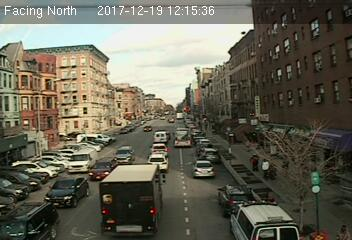car: (42, 176, 90, 207), (217, 183, 253, 212), (91, 159, 115, 179), (144, 154, 170, 172), (112, 146, 135, 164), (190, 161, 215, 177), (202, 147, 221, 163), (150, 142, 168, 155)
police: (229, 198, 298, 240)
truck: (68, 148, 97, 173), (174, 129, 191, 147), (153, 131, 169, 142)
ups: (99, 164, 164, 235)
